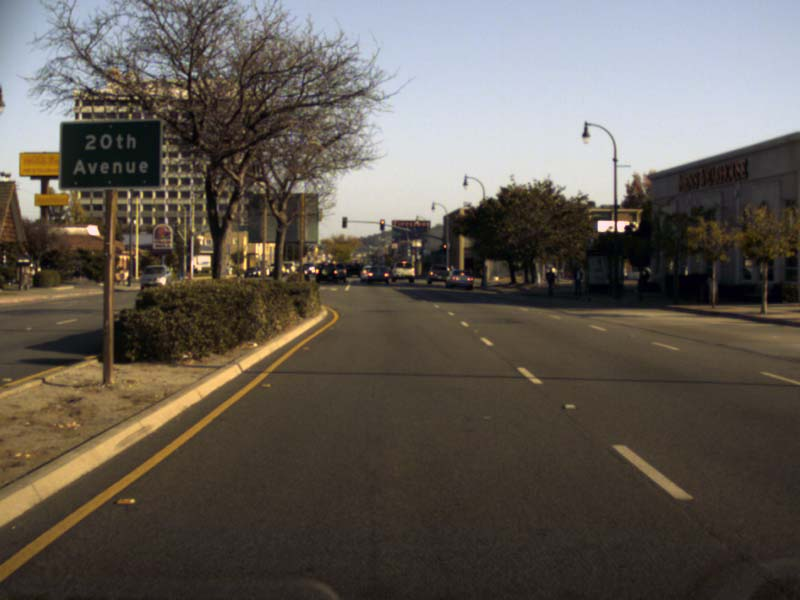Red: (341, 216, 347, 227), (441, 242, 446, 253), (380, 219, 384, 229)
